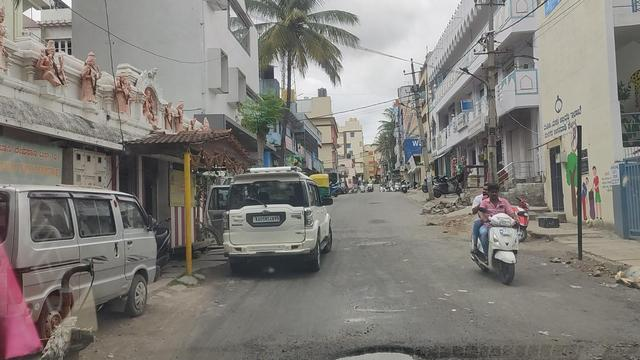LMV: (470, 185, 525, 290)
RoadDamages: (338, 336, 425, 360)
